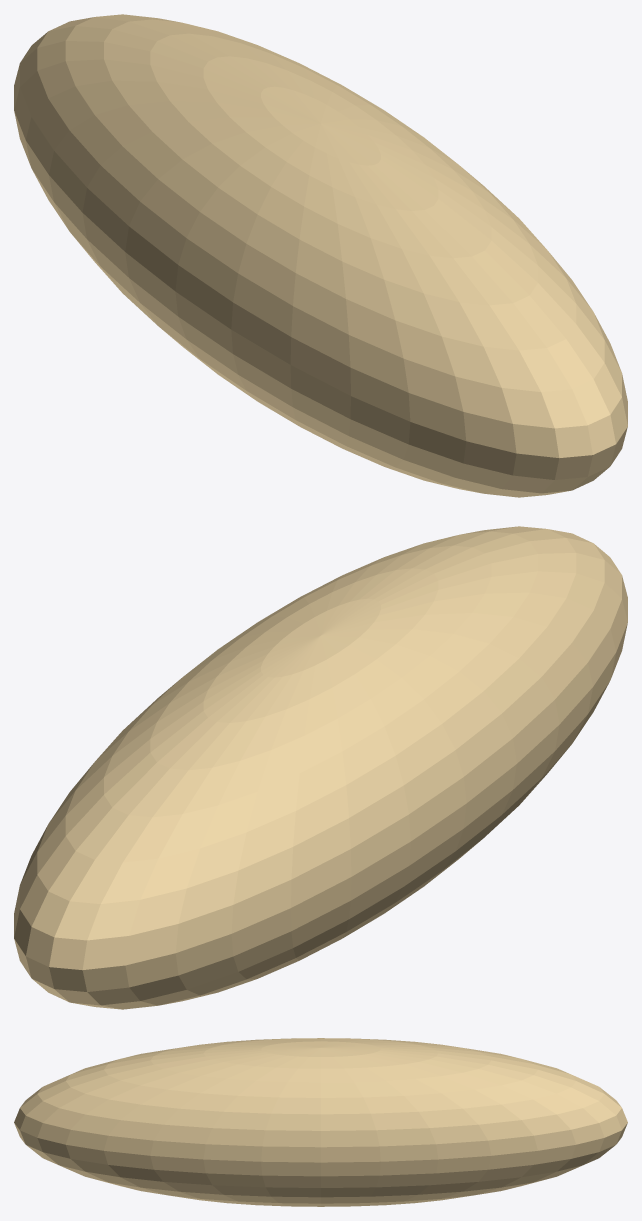
File: sphere.024_lev3.glb
3 renders of one model, top to bottom at view 1: azimuth 30°, elevation 25°; view 2: azimuth 150°, elevation 25°; view 3: azimuth 270°, elevation 25°, orthographic. The views are drawn at different scales.
Parts seen in each view (by area): view 1: sphere.024_lev3; view 2: sphere.024_lev3; view 3: sphere.024_lev3.
Part boxes in pixels (x1,y1,x2,y2): sphere.024_lev3: [14, 14, 627, 497]; sphere.024_lev3: [14, 526, 627, 1009]; sphere.024_lev3: [14, 1038, 627, 1206].
Bounding box in the file's own units: 0.8827 × 0.7671 × 2.86.
